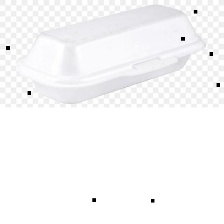foam_box: (8, 0, 212, 108)
